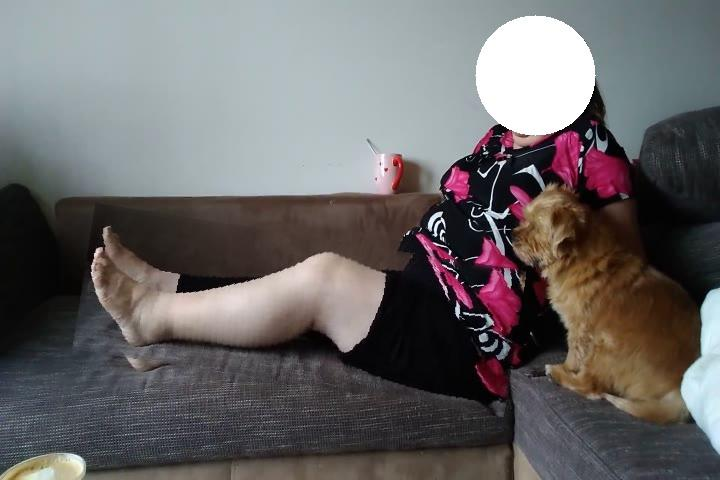lowerbody: (78, 221, 523, 401)
